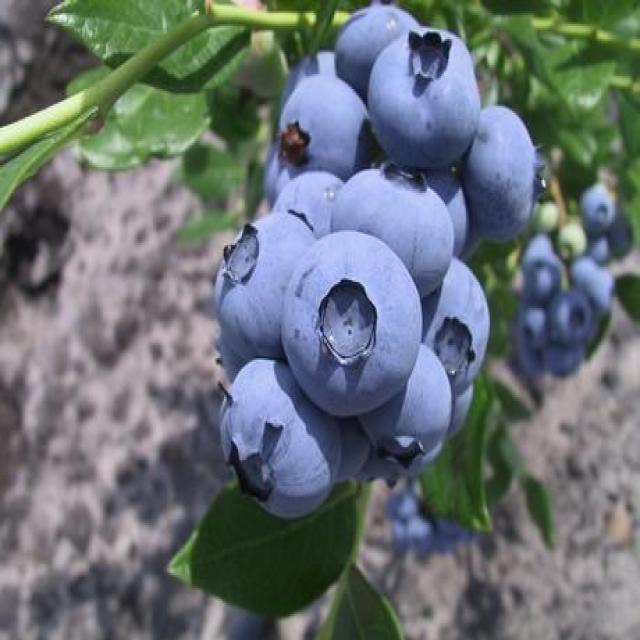BlueBerry - v1: (277, 226, 427, 434), (216, 352, 350, 522), (359, 20, 487, 174), (324, 167, 458, 302), (211, 210, 320, 369), (411, 256, 498, 412), (276, 61, 376, 189), (358, 342, 453, 472), (470, 95, 546, 252), (314, 2, 428, 100), (260, 162, 354, 252), (406, 165, 479, 273)
